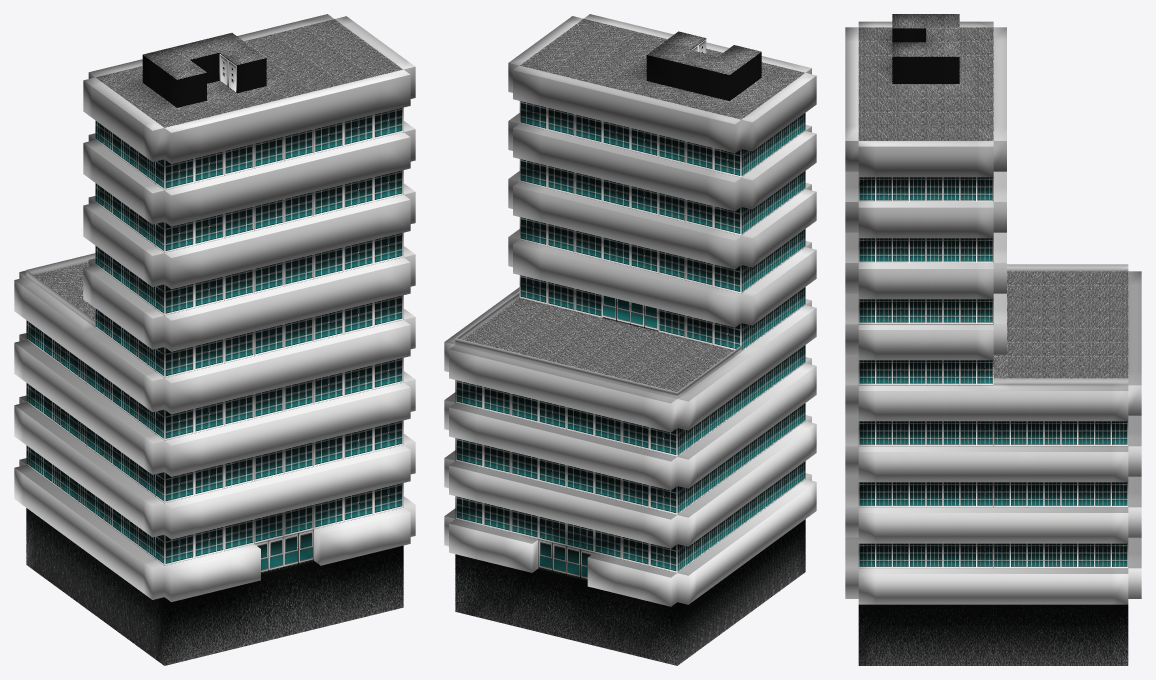
The model's file is kantoor_mod3_1a.fbx.
3 views of the same model, side by side, from view 1: azimuth 30°, elevation 25°; view 2: azimuth 150°, elevation 25°; view 3: azimuth 270°, elevation 25° (orthographic). The views are drawn at different scales.
Visible parts, largest first — view 1: kantoor_mod3_1a; view 2: kantoor_mod3_1a; view 3: kantoor_mod3_1a.
Part boxes in pixels (x1,y1,x2,y2): kantoor_mod3_1a: (14,14,415,665); kantoor_mod3_1a: (444,14,816,665); kantoor_mod3_1a: (845,14,1141,665).
Bounding box in the file's own units: 3168 × 6516 × 3168.
